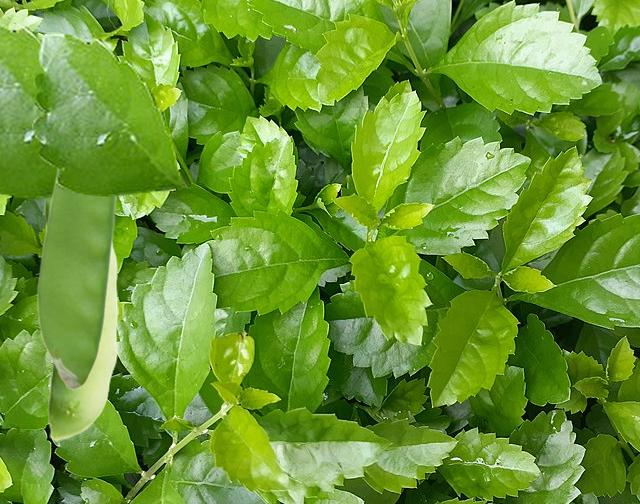pea: (41, 199, 117, 440), (36, 170, 118, 389)
